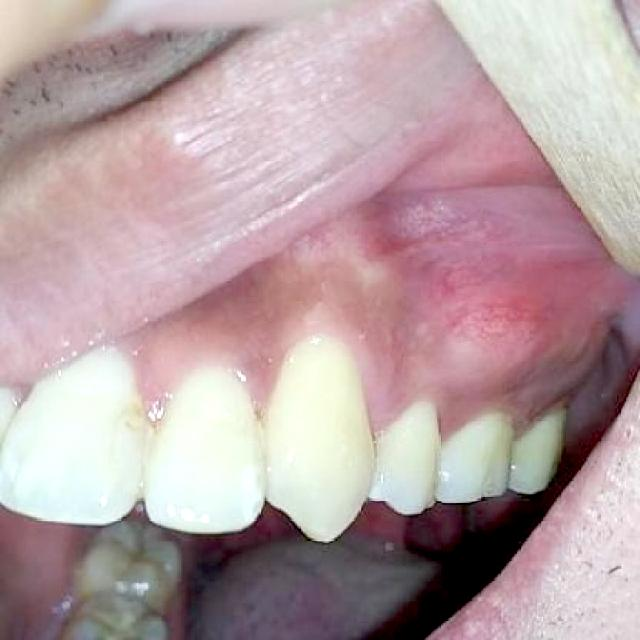Plaque: (111, 398, 158, 442)
